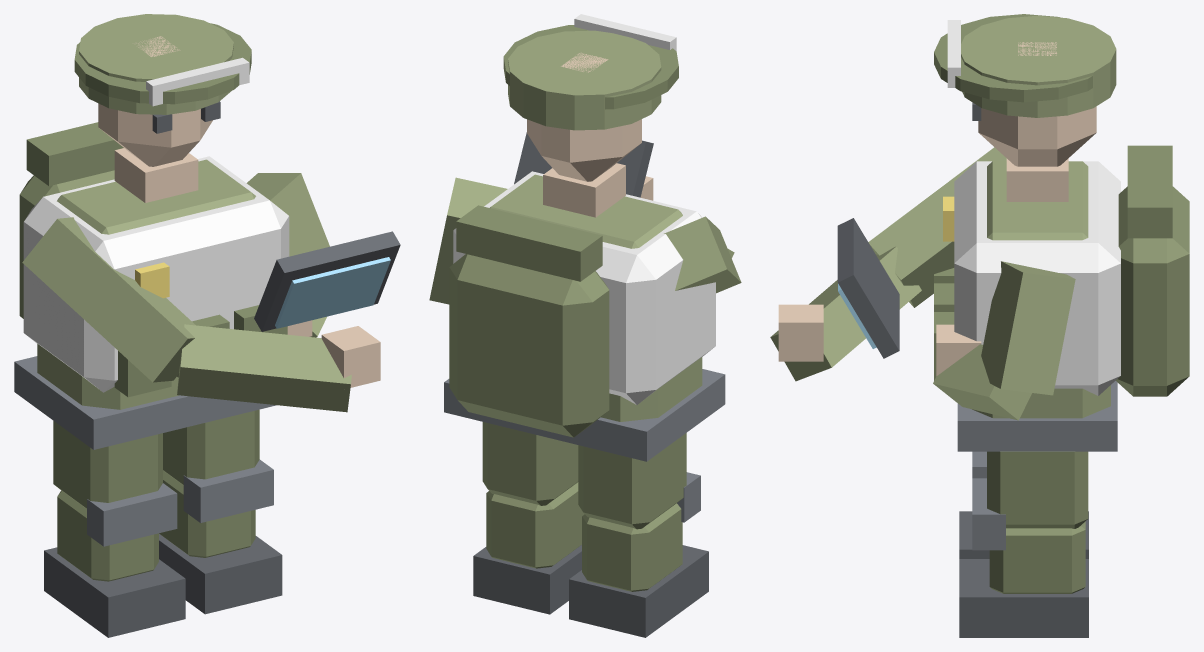
Rendered from officer.glb.
3 views of the same model, side by side, from view 1: azimuth 30°, elevation 25°; view 2: azimuth 150°, elevation 25°; view 3: azimuth 270°, elevation 25° (orthographic).
Visible parts, largest first — view 1: main, shinl, shinr, legl, legr; view 2: main, shinl, shinr, legl, legr; view 3: main, shinr, legr, shinl.
Boxes of the visible parts, x1,y1,x2,y2 form: main: [14, 14, 400, 449]; shinl: [44, 483, 185, 637]; shinr: [159, 459, 282, 614]; legl: [53, 421, 162, 508]; legr: [163, 409, 259, 485]; main: [429, 14, 741, 461]; shinl: [569, 472, 708, 637]; shinr: [473, 482, 584, 614]; legl: [578, 433, 686, 529]; legr: [482, 422, 578, 505]; main: [770, 14, 1189, 451]; shinr: [959, 478, 1088, 637]; legr: [987, 451, 1088, 528]; shinl: [959, 451, 1088, 558].
Bounding box in the file's own units: 0.3161 × 0.54 × 0.3723.
